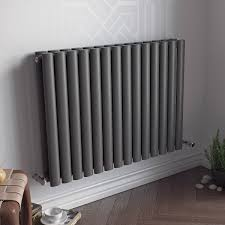Radiator: (33, 37, 195, 191)
